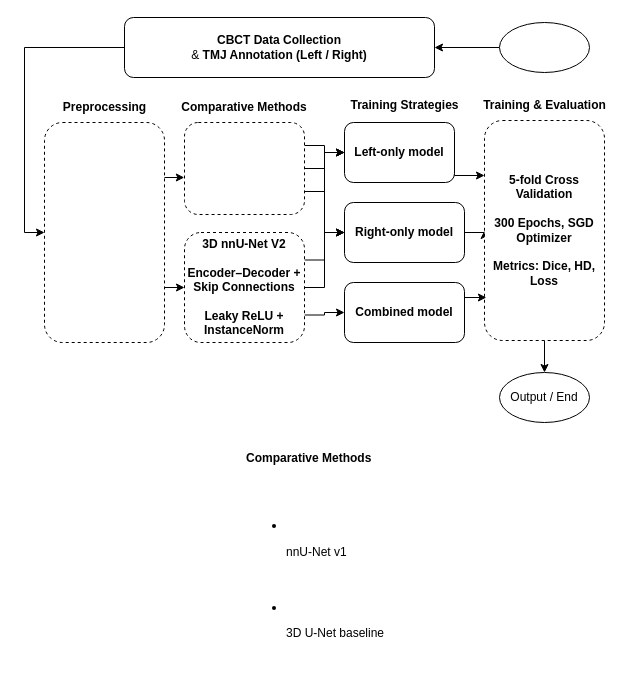
This 637x690 diagram has some shape labels left out. The shapes that lost their labels are listed below. From the top down, each one's centre as x and y in pixels, then its label:
the point at 544,47: Start
the point at 244,168: nnU-Net v1 3D U-Net baseline
the point at 104,232: Cropping Voxel Resampling Z-score Normalization Data Augmentation
